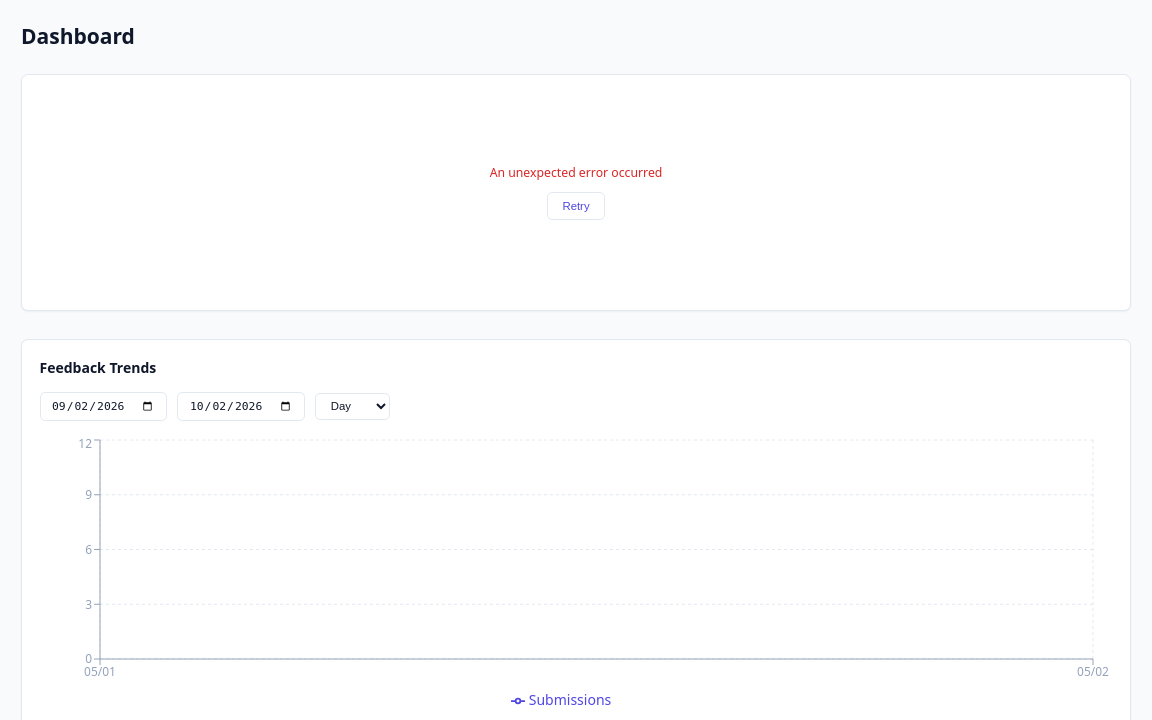
Test: DashboardContent › Per-widget error isolation › shows retry button in KPI error state and refetches on click
Click the button "Retry".
click(576, 206)  # box [547,192,604,220]
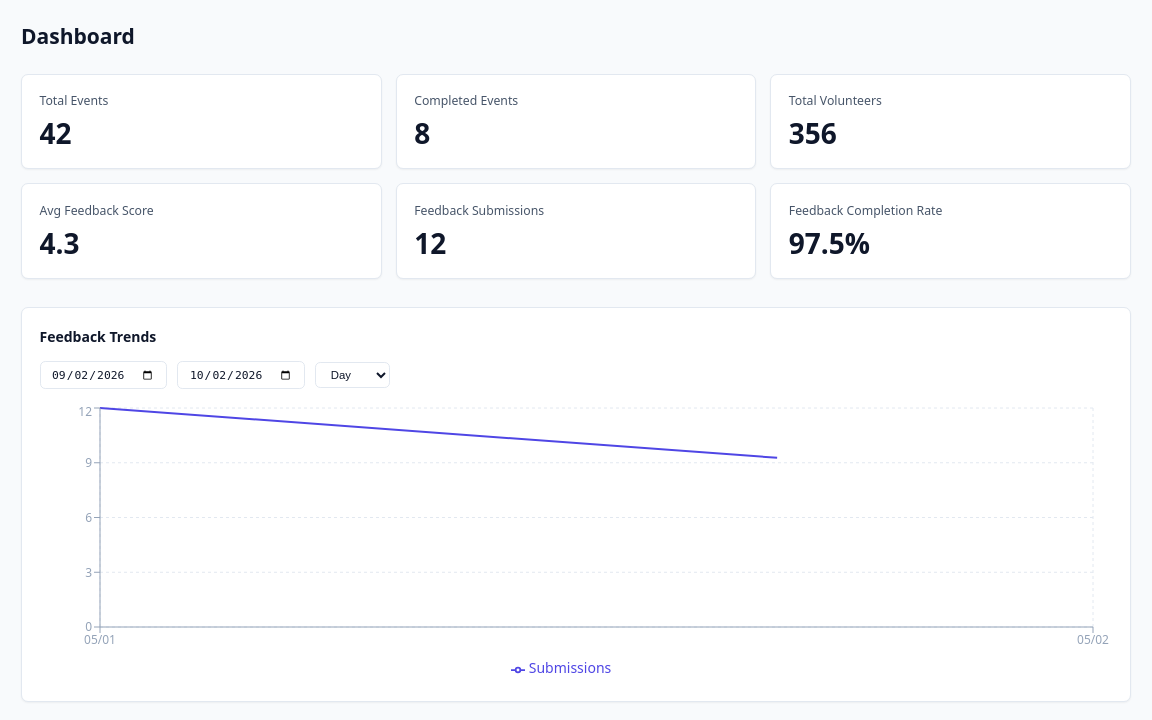
Expected: the text "42" is shown, [40,114,72,152]
